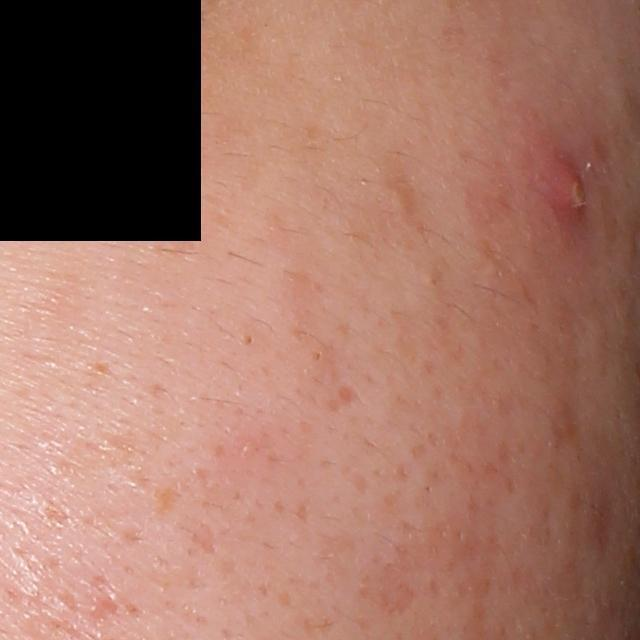atrophic_scar: (337, 383, 362, 408)
comedo: (312, 344, 326, 367), (242, 331, 256, 351)
pustule: (551, 157, 593, 223)
